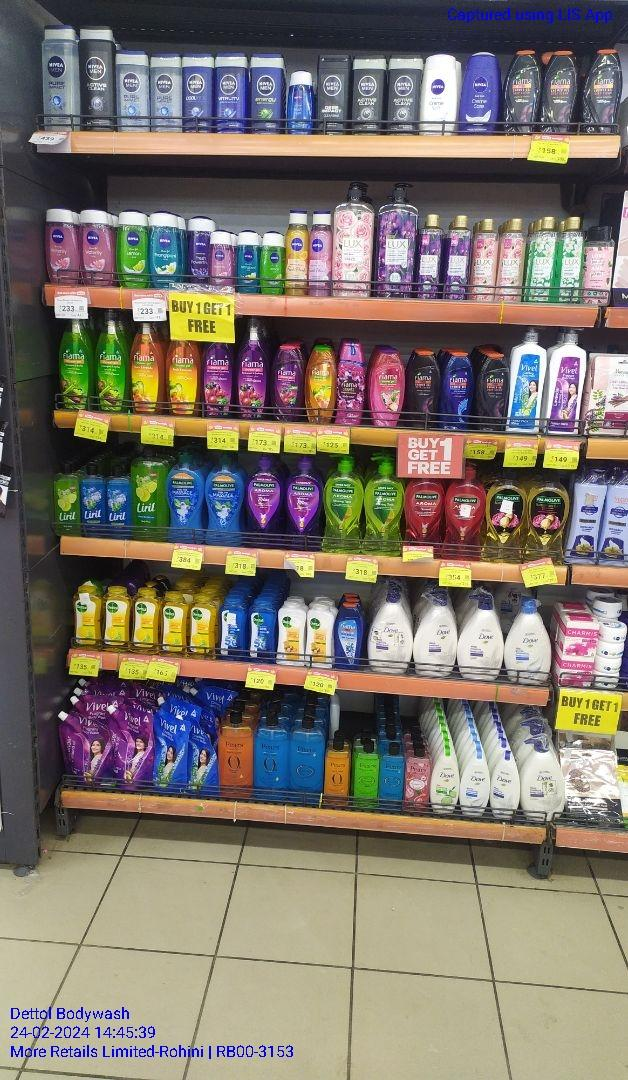Dettol_Bodywash_Cool: (219, 597, 248, 660), (251, 602, 276, 664)
Dettol_Bodywash_Refresh: (158, 585, 186, 656), (103, 584, 131, 652), (72, 582, 100, 650), (132, 588, 156, 650), (188, 600, 213, 659)
Dettol_Nourish_Body_Wash_250ML: (307, 600, 334, 670), (280, 600, 304, 666)
Dove_Deep_Moisture_Body_Wash_250ML: (492, 749, 520, 821)
Dove_Gentle_Exfoliating_Body_Wash_250ML: (462, 757, 491, 817)
Dove_Refreshing_Body_Wash_250ML: (430, 756, 460, 813)
Fiama_Shower_Gel_Patchouli_and_Macadamia_250ML: (368, 349, 405, 427)
Fiama_Shower_Gel_Peach_and_Avocado_250ML: (304, 345, 335, 421)
Liril_Cooling_Mint_Body_Wash_250ML: (83, 461, 107, 536), (108, 467, 133, 538)
Liril_Lime_and_Tea_Tree_Oil_Body_Wash_250ML: (53, 461, 81, 537)
Lux_Black_Orchid_Scent_and_Juniper_Oil_Body_Wash_245ML: (442, 216, 469, 302), (419, 211, 439, 294)
Lux_Body_Wash_Skin_Detox_Freesia_Scent_and_Alove_Vera_245ML: (557, 214, 583, 304), (529, 215, 553, 304)
Nivea_Creme_Care_Body_Wash_250ML: (458, 51, 501, 135)
Nivea_Creme_Soft_Body_Wash_250ML: (420, 53, 456, 136)
Nivea_Shower_Gel_Frangipani_and_Oil_250ML: (148, 216, 184, 285)
Nivea_Shower_Gel_Fresh_Powerfruit_250ML: (186, 217, 210, 284)
Nivea_Shower_Gel_Lemon_and_Oil_250ML: (116, 210, 146, 289)
Nivea_Shower_Gel_Waterlily_and_Oil_250ML: (44, 206, 78, 286), (81, 210, 114, 286)
Pears_Pure_Glycerin_and_Lemon_Flower_Extracts_Body_Wash_250ML: (352, 743, 377, 807)
Pears_Pure_Glycerin_and_Mint_Extracts_Body_Wash_250ML: (380, 746, 405, 811)
